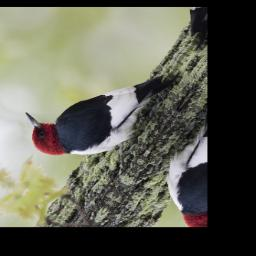Woodpecker: (2, 24, 189, 189)
